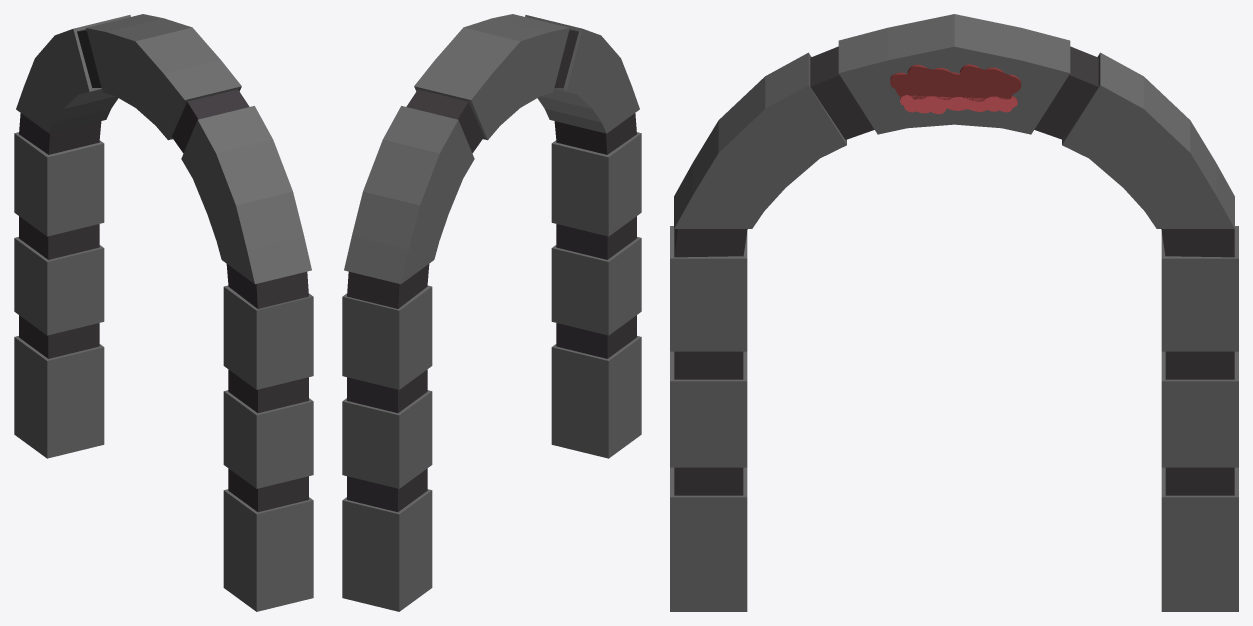
Rendered from CloudDoorFrame.fbx.
3 renders of one model, left to right at view 1: azimuth 30°, elevation 25°; view 2: azimuth 150°, elevation 25°; view 3: azimuth 270°, elevation 25°, orthographic. The views are drawn at different scales.
Parts seen in each view (by area): view 1: cloudframe; view 2: cloudframe; view 3: cloudframe.
Part boxes in pixels (x1,y1,x2,y2): cloudframe: (14,14,313,611); cloudframe: (342,14,641,611); cloudframe: (670,14,1238,611).
Size of the model in its own units: 0.9878 by 7.56 by 6.89.
